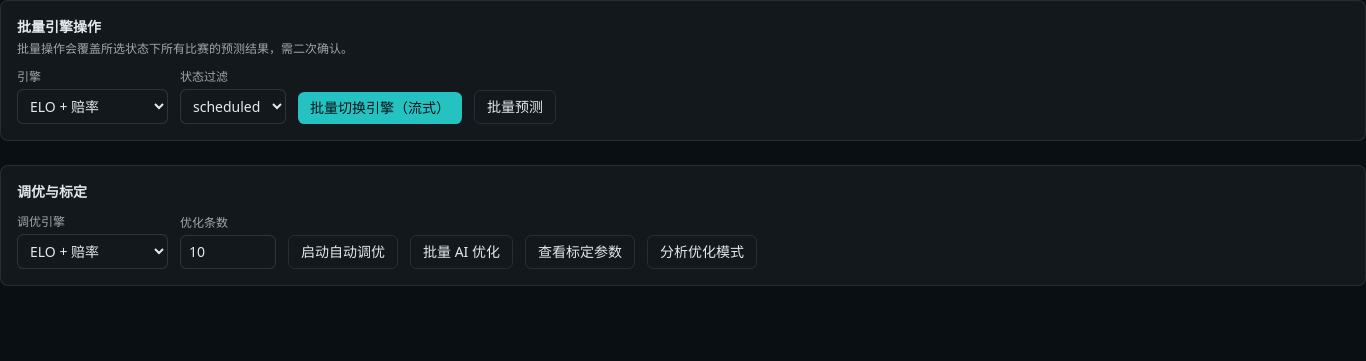
Test: EngineConsole › polls the auto-tune task until it completes
Click the button with test id "auto-tune-button".
click(343, 252)  # box x1=288 y1=235 x2=398 y2=269
Wait 12000 ms
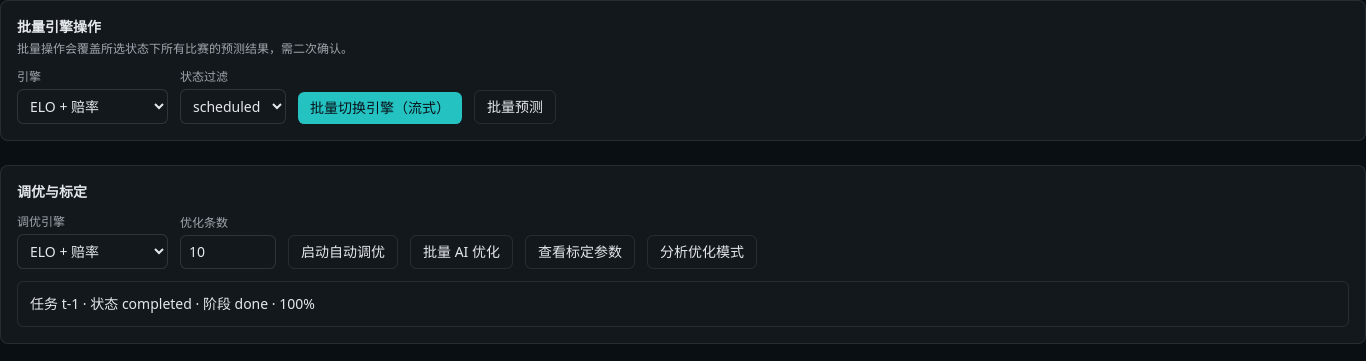
Check: the element with test id "auto-tune-task" shows "t-1", box x1=62 y1=294 x2=79 y2=313
Check: the element with test id "auto-tune-task" shows "completed", box x1=122 y1=294 x2=192 y2=313
